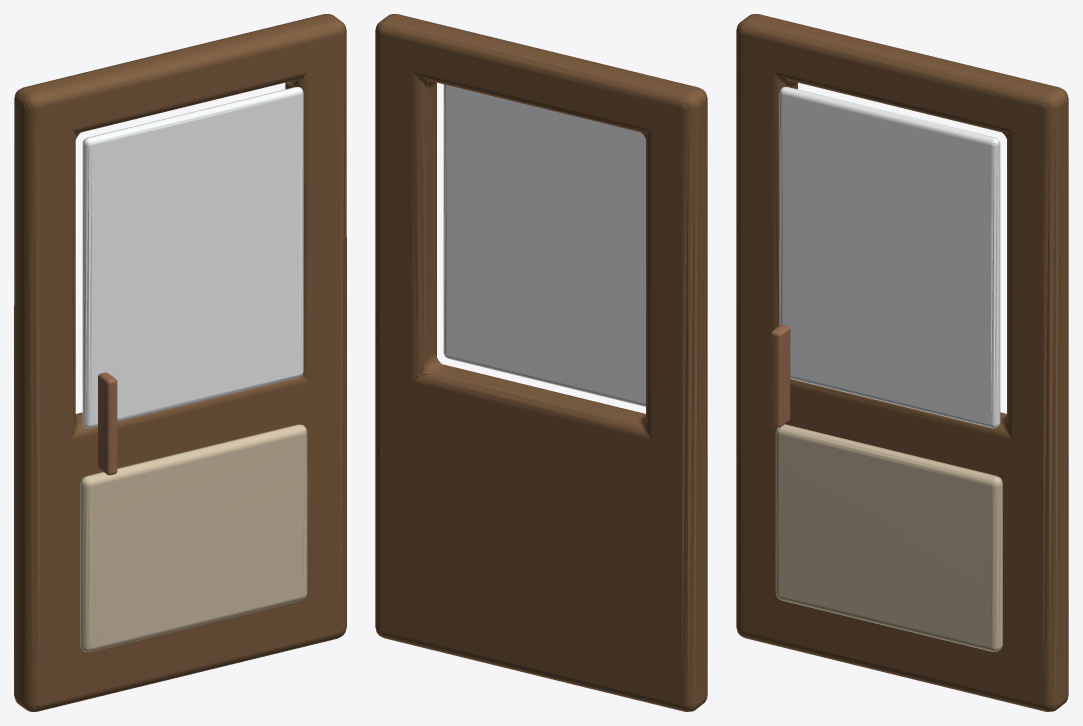
File: SM_Library_Door_Right.fbx
The picture shows the model from 3 angles, left to right: view 1: azimuth 30°, elevation 25°; view 2: azimuth 150°, elevation 25°; view 3: azimuth 330°, elevation 25°; orthographic projection.
Parts seen in each view (by area): view 1: LIB_Door_Entrance_Right.001; view 2: LIB_Door_Entrance_Right.001; view 3: LIB_Door_Entrance_Right.001.
Boxes of the visible parts, bbox=[...] form: LIB_Door_Entrance_Right.001: bbox=[14, 14, 346, 711]; LIB_Door_Entrance_Right.001: bbox=[375, 14, 707, 711]; LIB_Door_Entrance_Right.001: bbox=[736, 14, 1068, 711].
Bounding box in the file's own units: 106 × 22.75 × 194.
